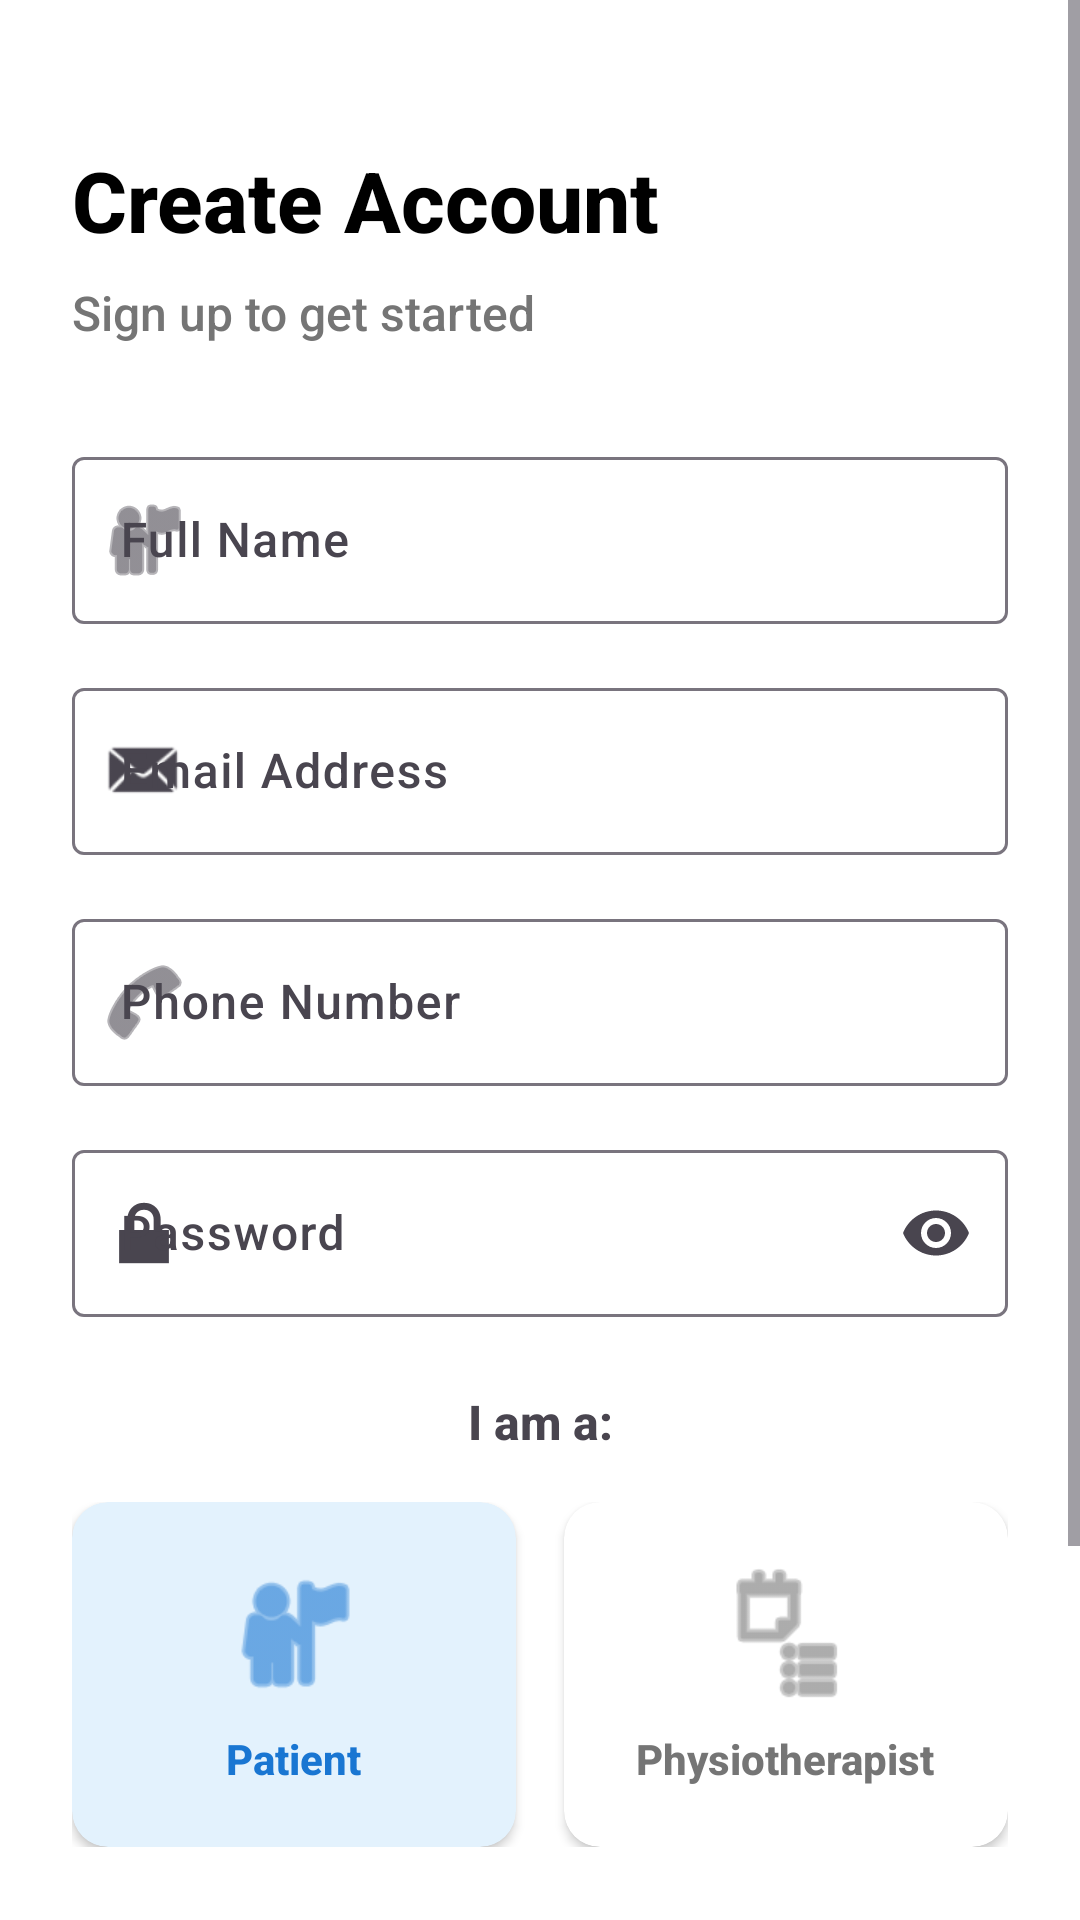

Locate icon controls on the screen. Image size 1080 x 1920, boxes as (x1, y1, x2, y2).
agenda: (736, 1569, 837, 1697)
myplaces: (241, 1580, 350, 1688)
